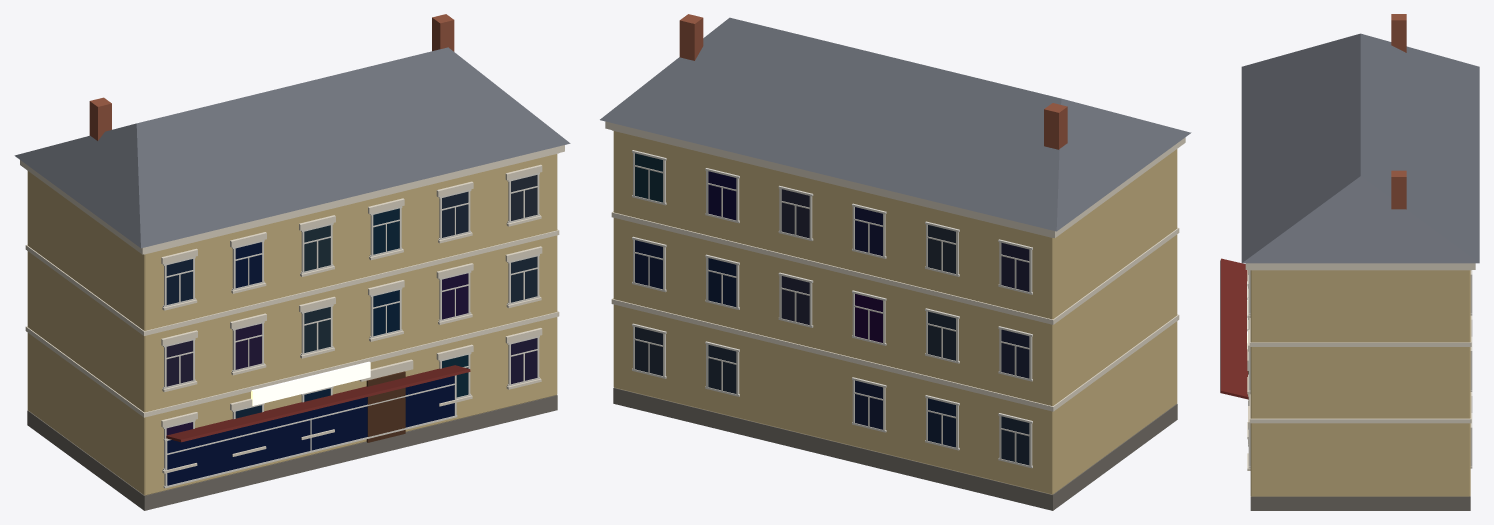
The model's file is old_c.glb.
The picture shows the model from 3 angles, left to right: view 1: azimuth 30°, elevation 25°; view 2: azimuth 150°, elevation 25°; view 3: azimuth 270°, elevation 25°; orthographic projection. The views are drawn at different scales.
Parts seen in each view (by area): view 1: old_c; view 2: old_c; view 3: old_c.
Boxes of the visible parts, x1,y1,x2,y2 form: old_c: (14,14,570,510); old_c: (600,14,1191,510); old_c: (1220,14,1479,510).
Bounding box in the file's own units: 18.2 × 13.85 × 10.13.
